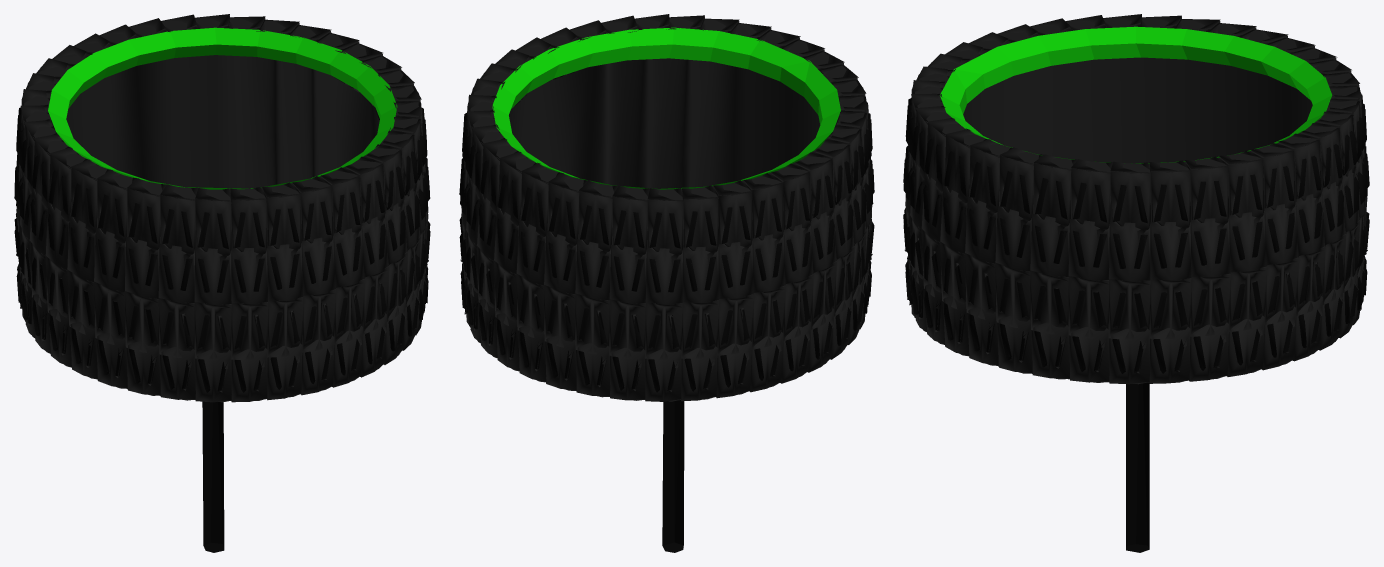
Rendered from rear_left_wheel_link.obj.
3 views of the same model, side by side, from view 1: azimuth 30°, elevation 25°; view 2: azimuth 150°, elevation 25°; view 3: azimuth 270°, elevation 25° (orthographic). The views are drawn at different scales.
Parts seen in each view (by area): view 1: Cylinder.002; view 2: Cylinder.002; view 3: Cylinder.002.
Boxes of the visible parts, x1,y1,x2,y2 form: Cylinder.002: (14,14,430,552); Cylinder.002: (459,14,874,552); Cylinder.002: (903,14,1369,552).
Size of the model in its own units: 0.2371 by 0.2889 by 0.2615.
